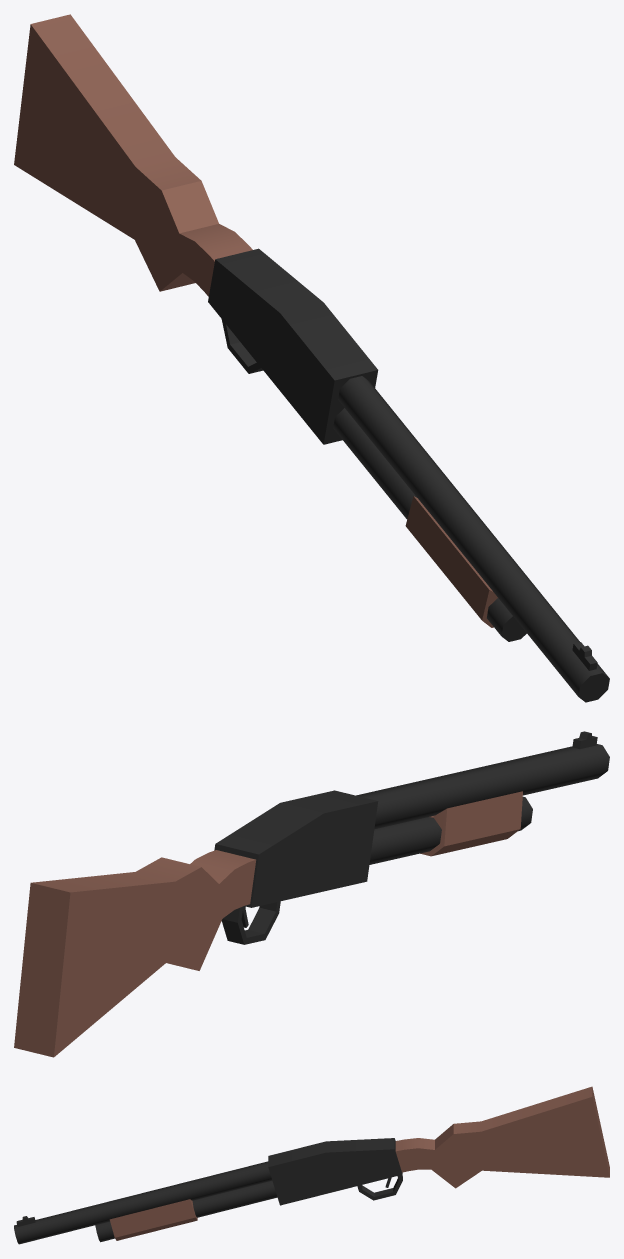
The model's file is pump_action.glb.
3 renders of one model, top to bottom at view 1: azimuth 30°, elevation 25°; view 2: azimuth 150°, elevation 25°; view 3: azimuth 270°, elevation 25°, orthographic. The views are drawn at different scales.
Visible parts, largest first — view 1: Pump_Action_Shotgun_Body_24, Pump_Action_Shotgun_Pump_22; view 2: Pump_Action_Shotgun_Body_24, Pump_Action_Shotgun_Pump_22; view 3: Pump_Action_Shotgun_Body_24, Pump_Action_Shotgun_Pump_22.
Boxes of the visible parts, <box> form: Pump_Action_Shotgun_Body_24: <box>14,14,609,702</box>; Pump_Action_Shotgun_Pump_22: <box>405,496,497,627</box>; Pump_Action_Shotgun_Body_24: <box>14,731,609,1057</box>; Pump_Action_Shotgun_Pump_22: <box>420,791,522,856</box>; Pump_Action_Shotgun_Body_24: <box>14,1086,609,1244</box>; Pump_Action_Shotgun_Pump_22: <box>109,1199,197,1240</box>.
Size of the model in its own units: 0.1031 by 0.6456 by 2.3.
